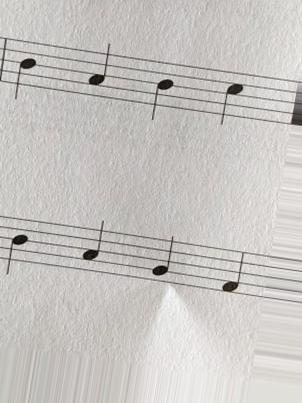note: (143, 59, 177, 124), (83, 40, 114, 104), (217, 68, 248, 131), (10, 40, 39, 104), (3, 216, 31, 280), (80, 218, 110, 277), (147, 234, 175, 292), (220, 247, 245, 301)
